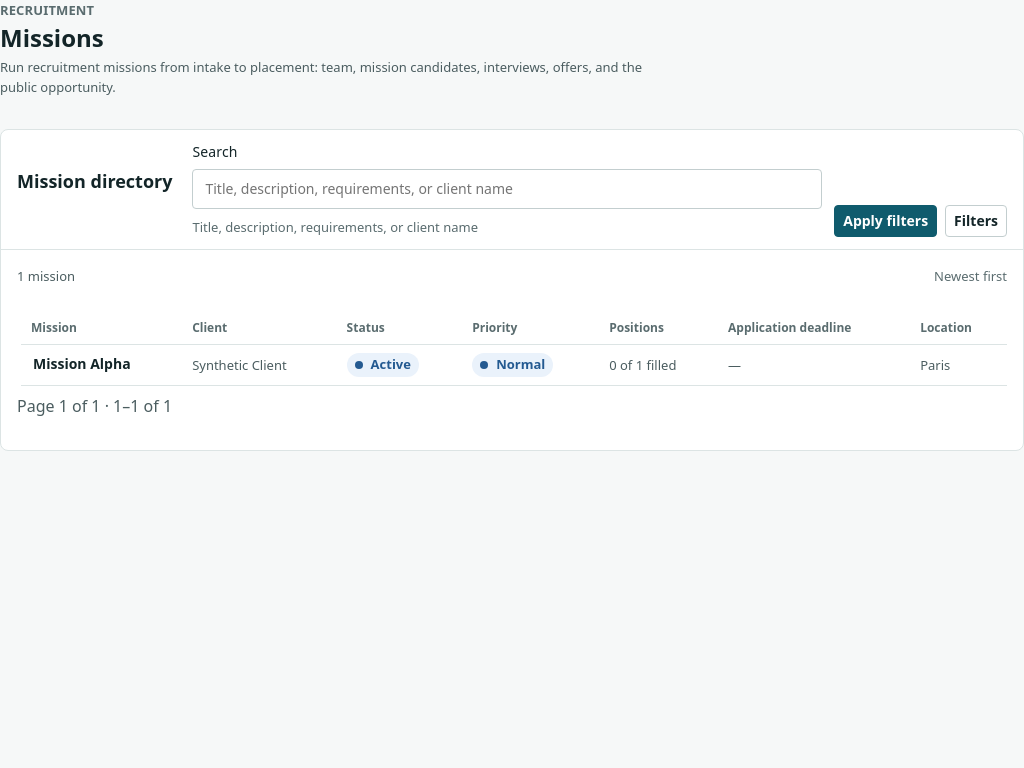
Test: Missions nested pagination › loads the next assignment page and keeps earlier rows visible
Step 1. Click the button "Mission Alpha" → [82, 364], box [33,355,131,374]
(page scrolled)
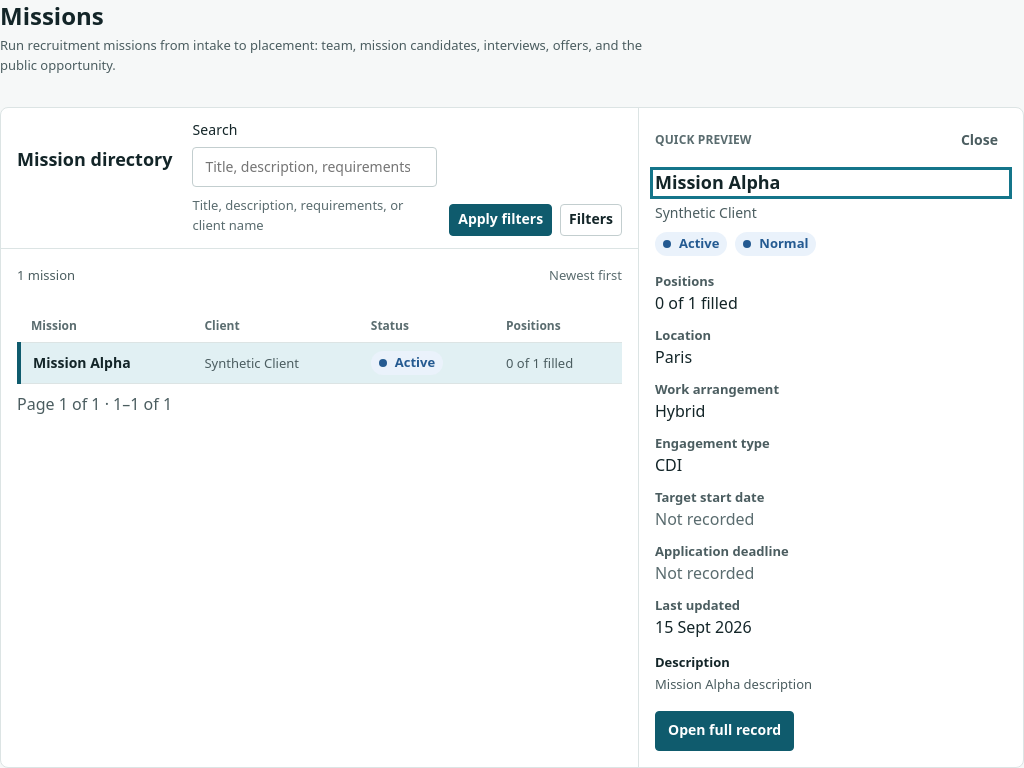
Step 2. Click the button "Open full record" → [725, 730], box [655,710,794,750]
(page scrolled)
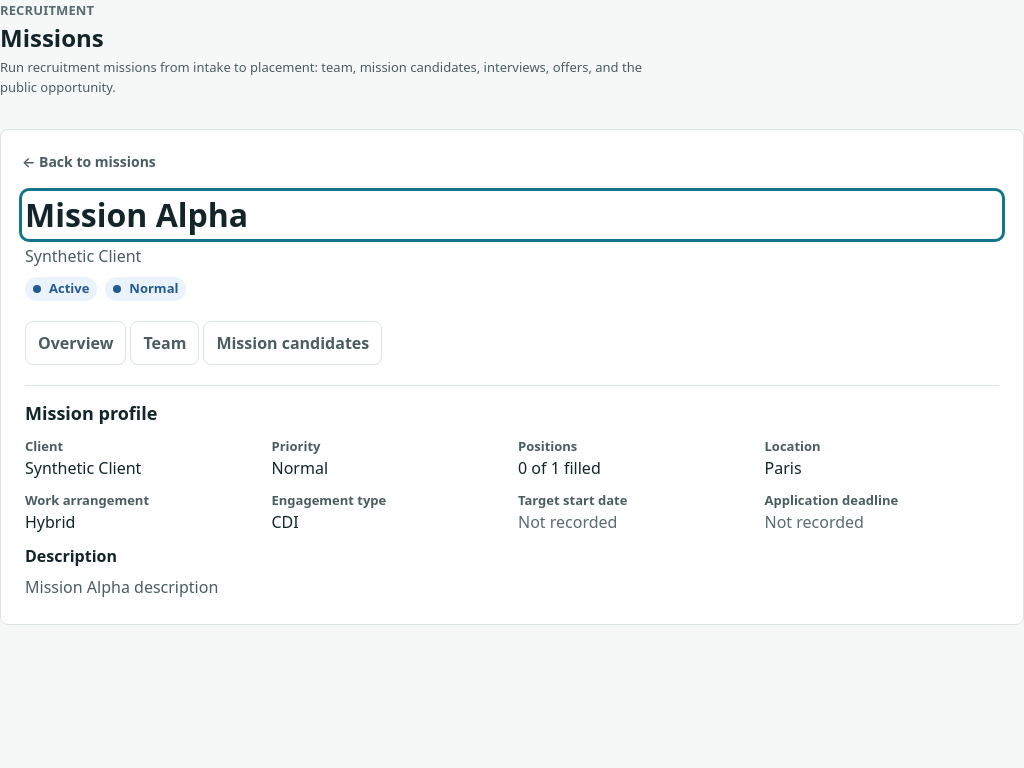
Step 3. Click the tab "Team" → [165, 343], box [130,321,199,365]
(page scrolled)
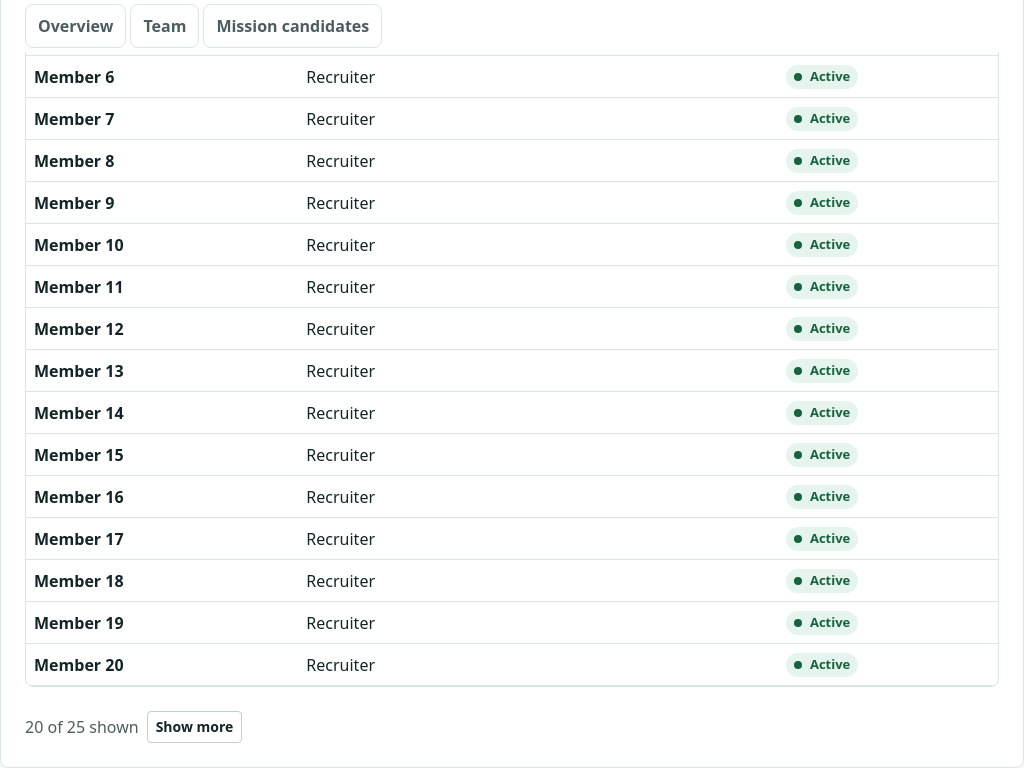
Step 4. Click the button "Show more" → [195, 727], box [147,711,242,743]
(page scrolled)
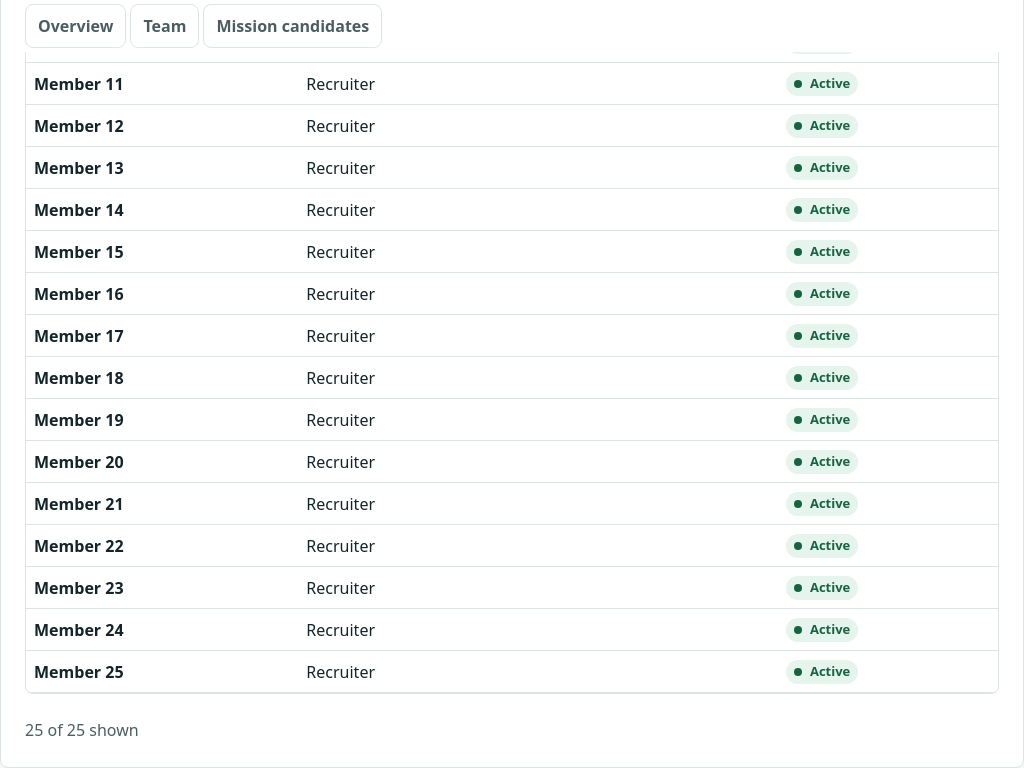
Expected: the column heading "Member 21" is shown, [26,482,298,524]
Expected: the text "25 of 25 shown" is shown, [25,718,139,743]
